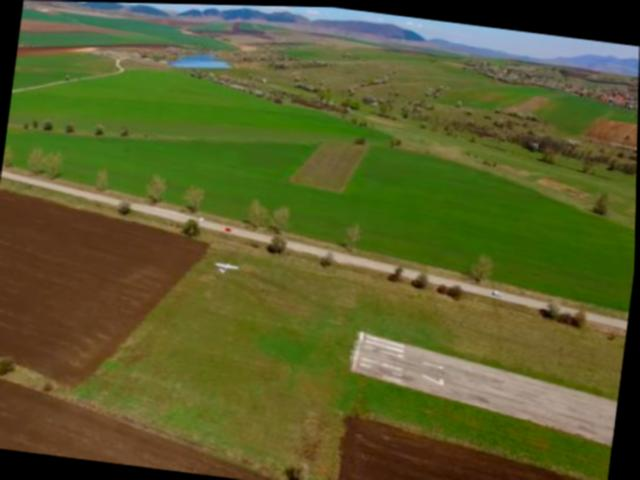uav: (210, 250, 243, 283)
